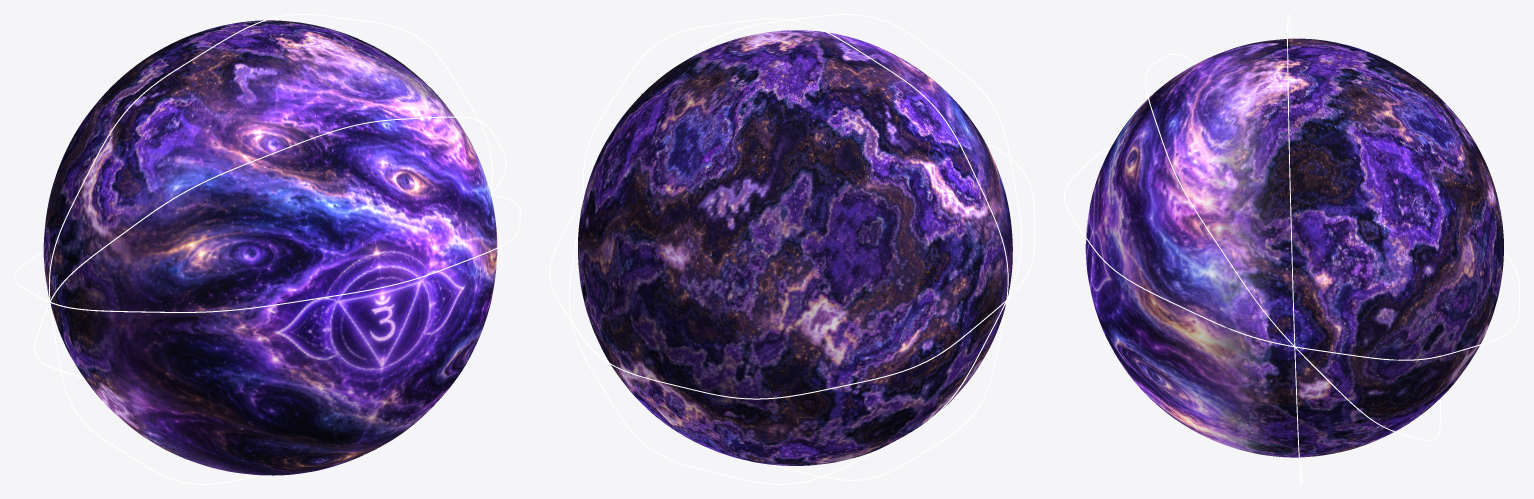
The model's file is ventures.glb.
3 views of the same model, side by side, from view 1: azimuth 30°, elevation 25°; view 2: azimuth 150°, elevation 25°; view 3: azimuth 270°, elevation 25° (orthographic). The views are drawn at different scales.
Parts seen in each view (by area): view 1: Surface, Energy Filaments; view 2: Surface, Energy Filaments; view 3: Surface, Energy Filaments.
Part boxes in pixels (x1,y1,x2,y2): Surface: (43,20,497,475); Energy Filaments: (14,14,520,484); Surface: (578,30,1012,465); Energy Filaments: (549,14,1035,484); Surface: (1085,38,1503,457); Energy Filaments: (1064,14,1519,484).
Size of the model in its own units: 2.26 by 2.24 by 2.18.
2 materials, 1 textured.
